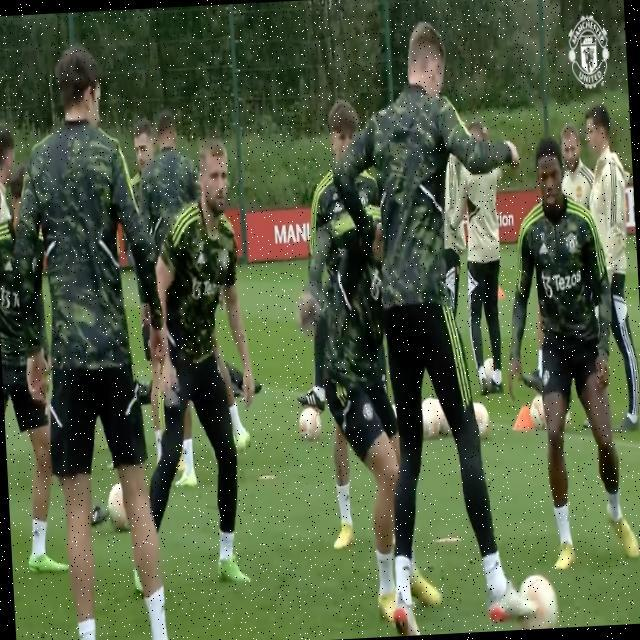Adidas: (2, 256, 14, 274), (538, 240, 550, 256), (332, 200, 343, 216), (196, 252, 207, 267)
